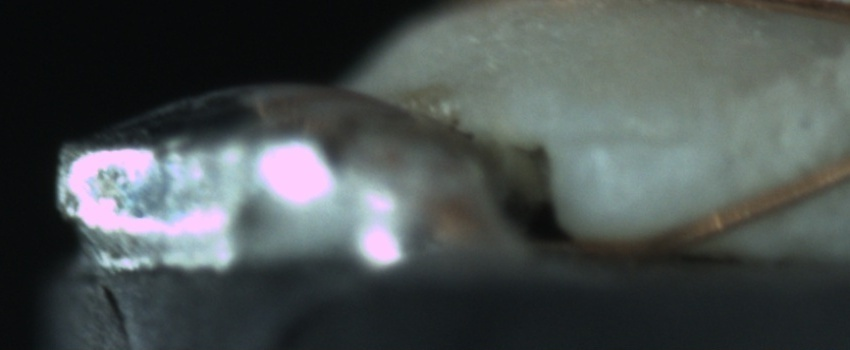DL: (566, 107, 707, 171)
